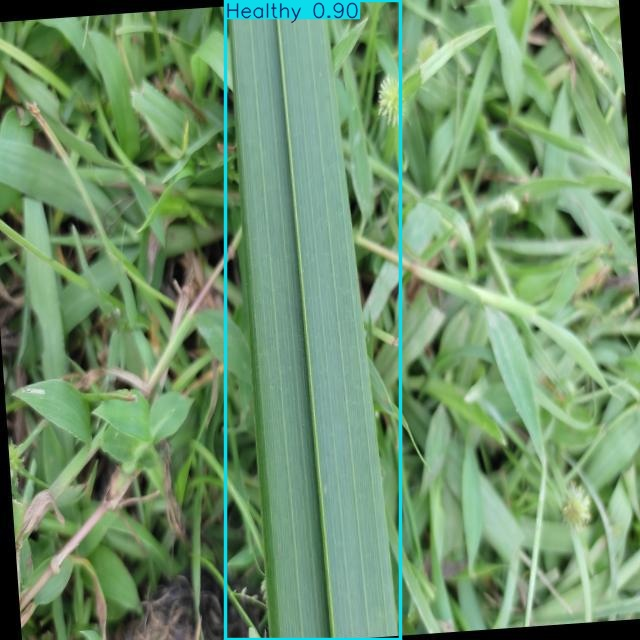Healthy: (225, 0, 400, 640)
